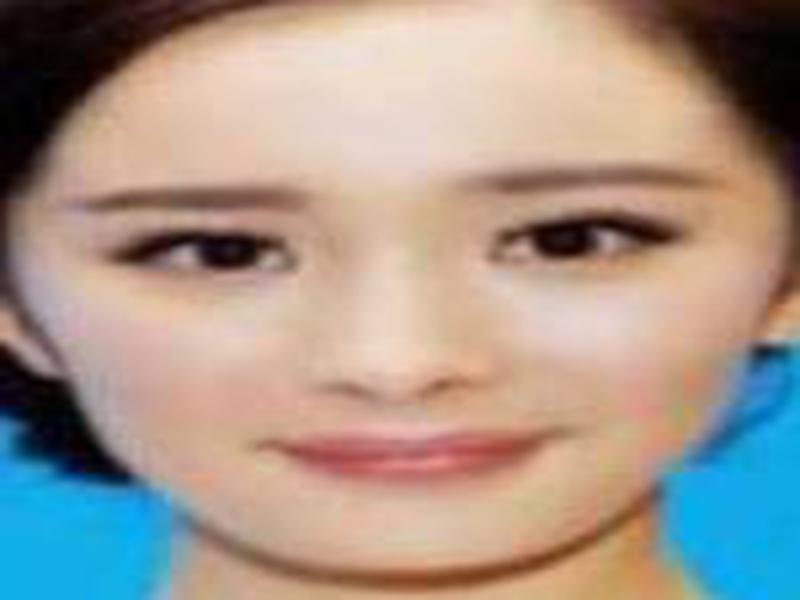without_mask: (40, 51, 778, 591)
